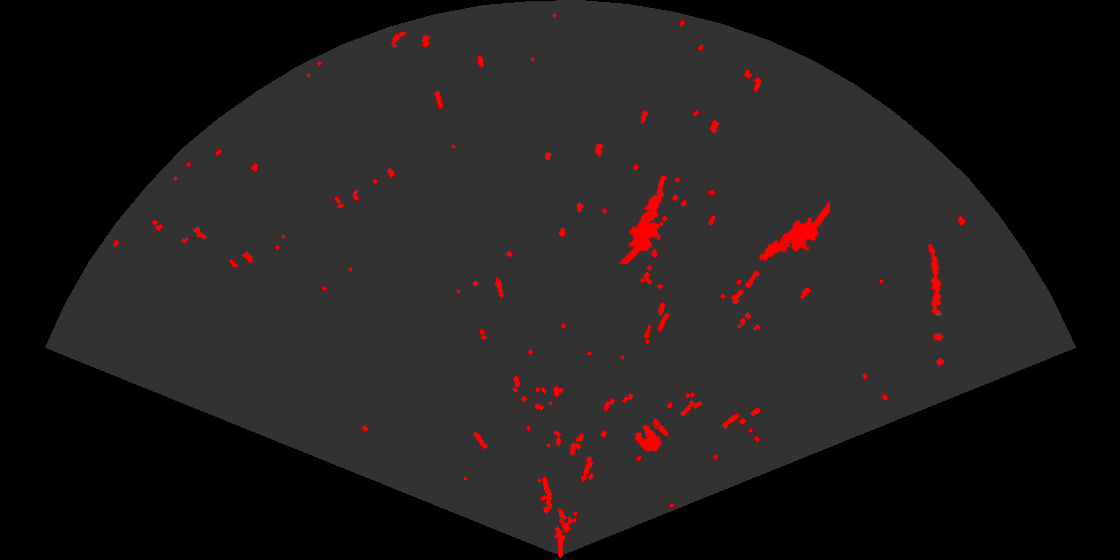ball: (633, 417, 670, 453)
chain: (926, 242, 945, 341)
frogman: (758, 202, 830, 263), (617, 187, 666, 264)
